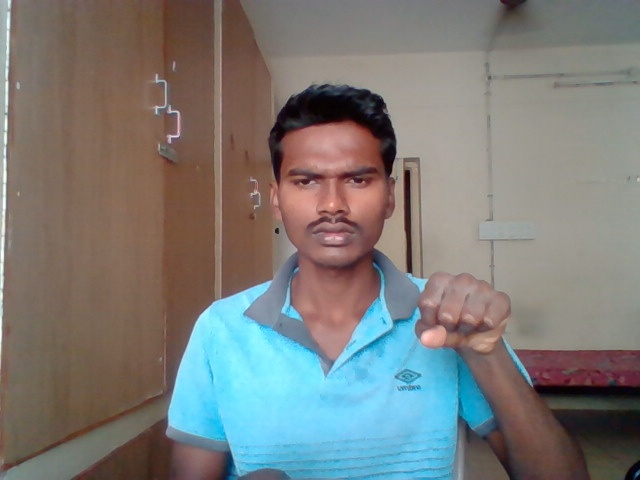Thank You: (413, 270, 514, 353)
